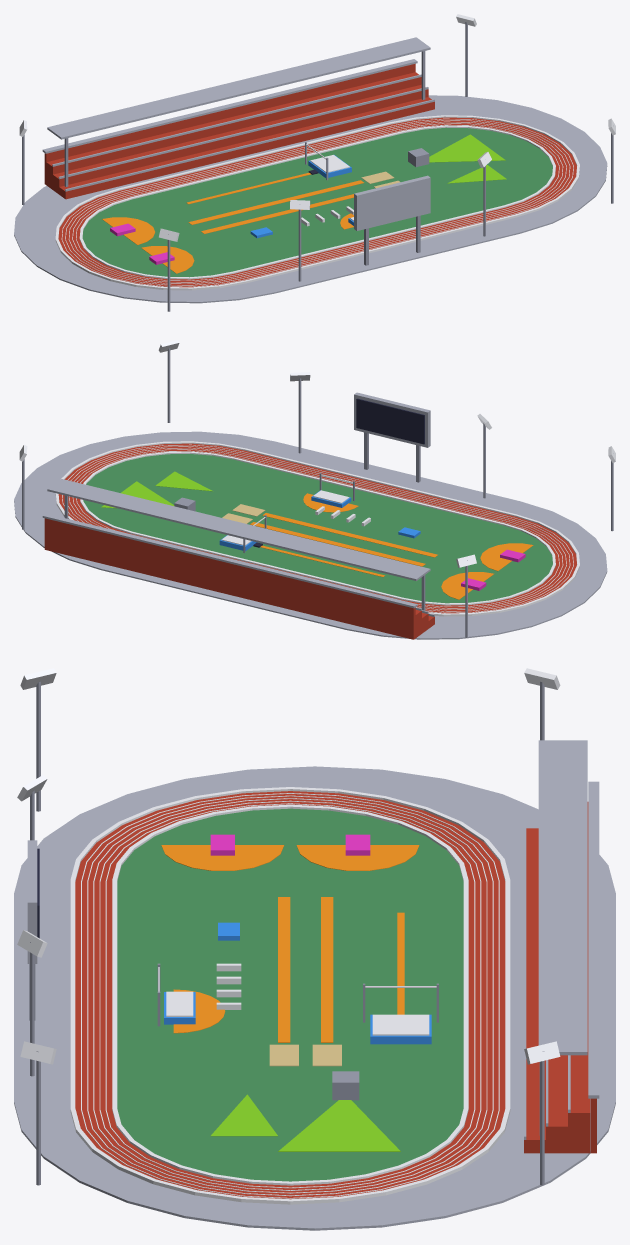
File: stadium-9x5-tone-a.glb
3 views of the same model, one above another, from view 1: azimuth 30°, elevation 25°; view 2: azimuth 150°, elevation 25°; view 3: azimuth 270°, elevation 25° (orthographic). The views are drawn at different scales.
Parts seen in each view (by area): view 1: stadium-9x5-tone-a; view 2: stadium-9x5-tone-a; view 3: stadium-9x5-tone-a.
Boxes of the visible parts, x1,y1,x2,y2 form: stadium-9x5-tone-a: (14, 14, 615, 311); stadium-9x5-tone-a: (14, 340, 615, 639); stadium-9x5-tone-a: (14, 668, 615, 1230).
Size of the model in its own units: 8.9 by 1.27 by 4.9.
Materials: 1 (1 with a texture image).
